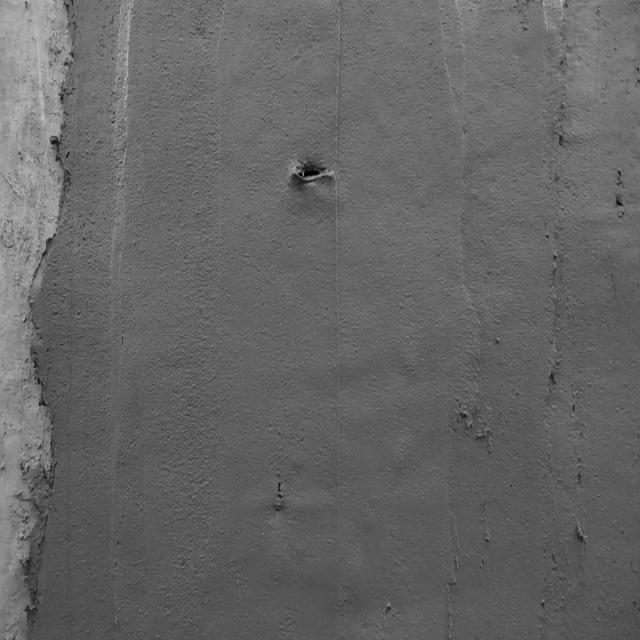trowels marks: (331, 3, 347, 581), (452, 9, 472, 295)
